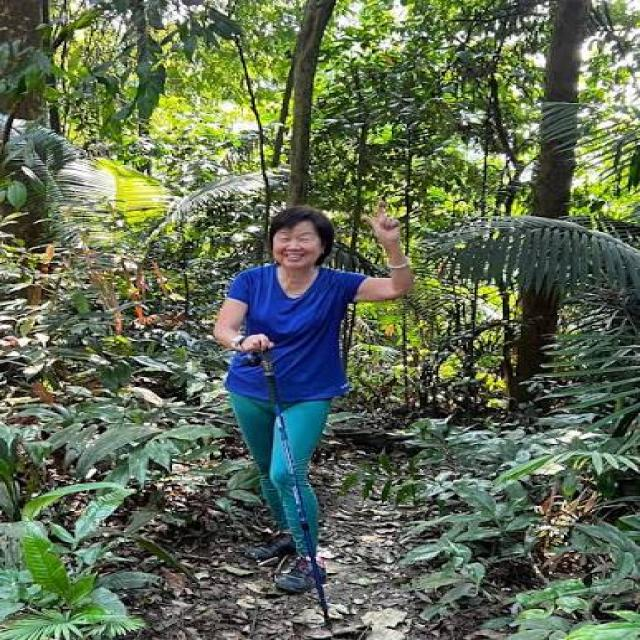Person: (208, 185, 417, 610)
